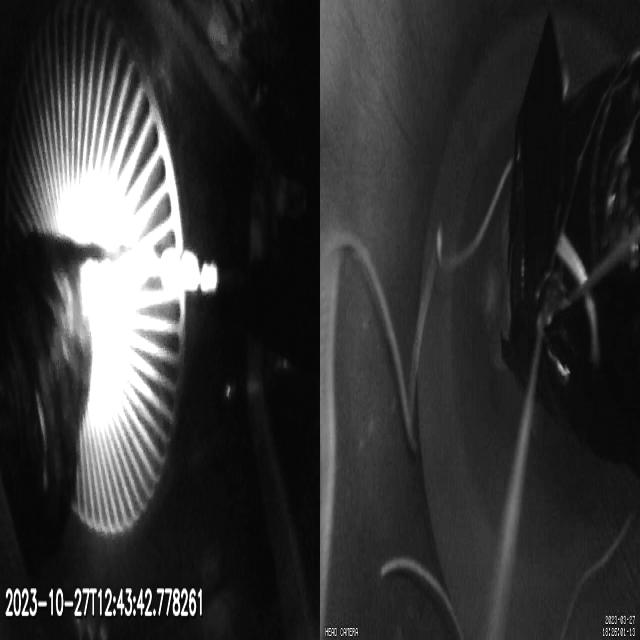white-dots: (160, 247, 218, 296)
